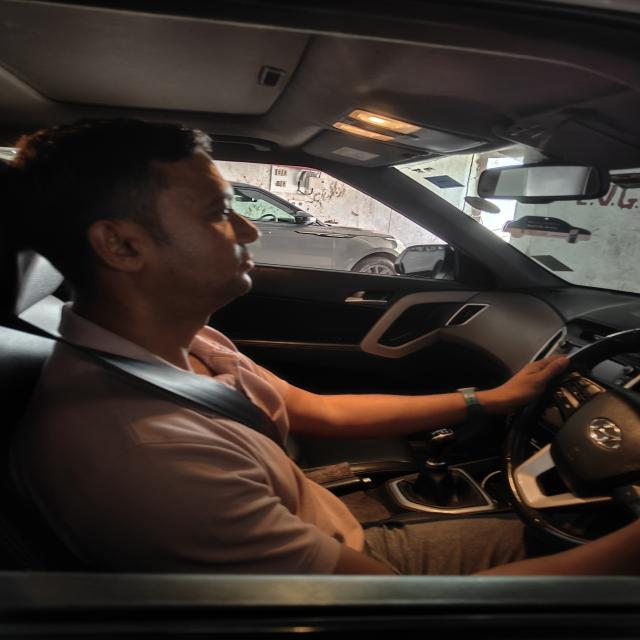seatbelt: (0, 310, 372, 519)
